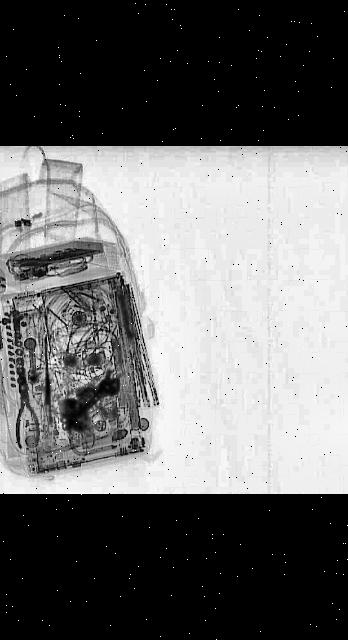Pliers: (8, 380, 44, 448)
